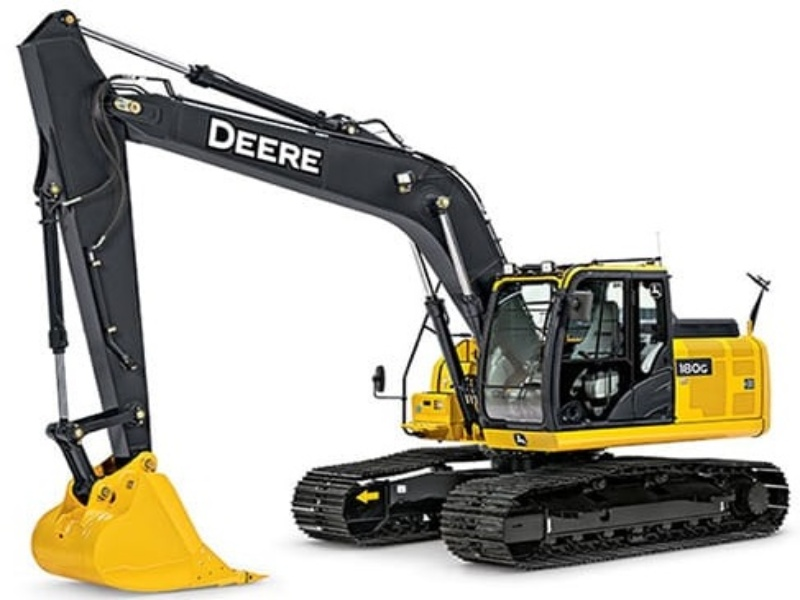wajueji: (224, 97, 791, 600)
